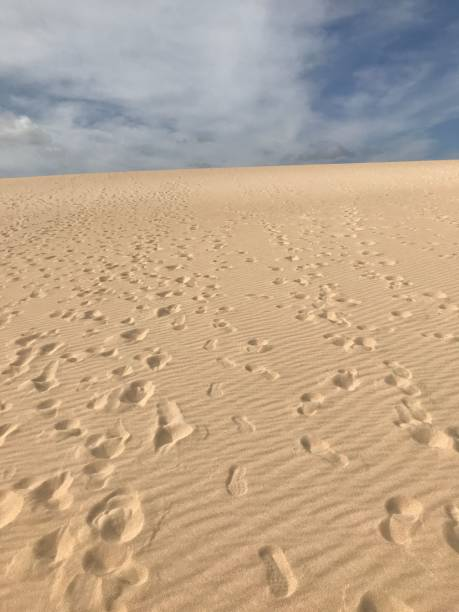human_foot_print: (65, 488, 147, 611), (384, 361, 458, 449), (7, 523, 75, 579), (87, 487, 143, 542), (153, 399, 193, 452), (380, 495, 422, 545), (259, 545, 297, 598), (25, 470, 73, 509), (85, 419, 130, 458), (300, 433, 348, 467), (384, 360, 420, 396), (1, 346, 37, 381), (356, 589, 413, 611), (408, 423, 456, 449), (395, 396, 431, 427), (119, 379, 154, 409), (324, 333, 376, 351), (83, 459, 114, 489), (30, 360, 59, 391), (0, 489, 23, 528), (86, 388, 120, 412), (443, 504, 458, 553), (295, 391, 324, 415), (54, 418, 84, 440), (226, 465, 247, 496), (332, 368, 359, 390), (245, 363, 279, 380), (145, 348, 171, 370), (35, 398, 61, 416), (0, 422, 18, 446), (231, 415, 255, 432), (120, 328, 149, 342), (245, 337, 272, 352), (212, 318, 236, 332), (207, 382, 224, 399), (171, 314, 187, 331), (389, 309, 412, 319), (216, 357, 236, 368), (203, 338, 219, 351), (0, 399, 13, 414)
